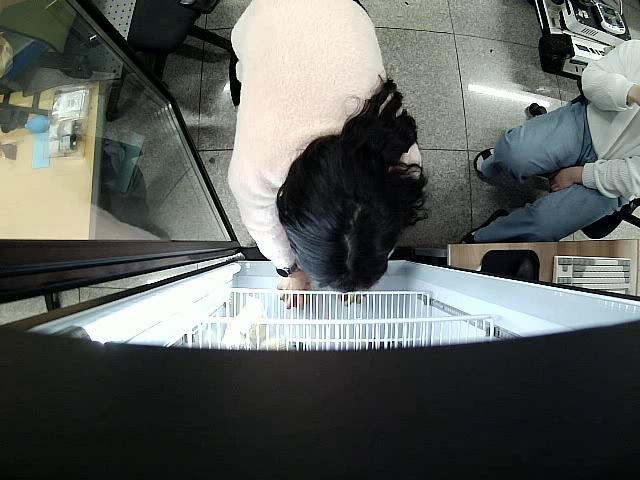00_hand: (275, 274, 313, 312)
